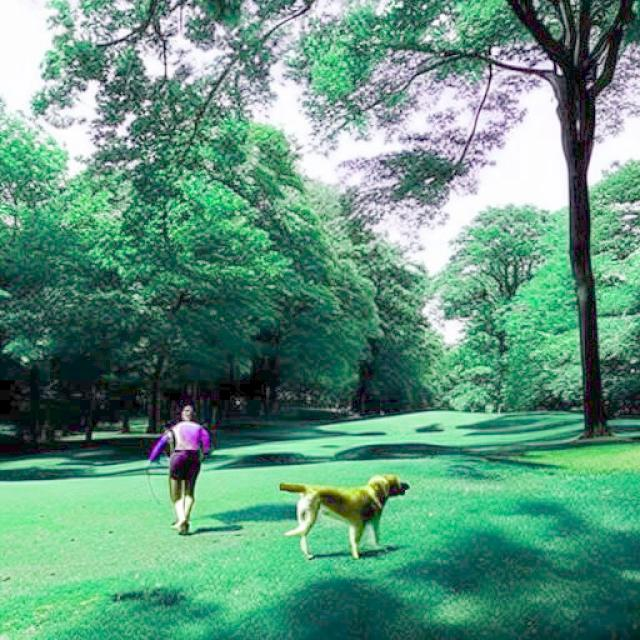Unleashed_Dog: (171, 452, 410, 560)
